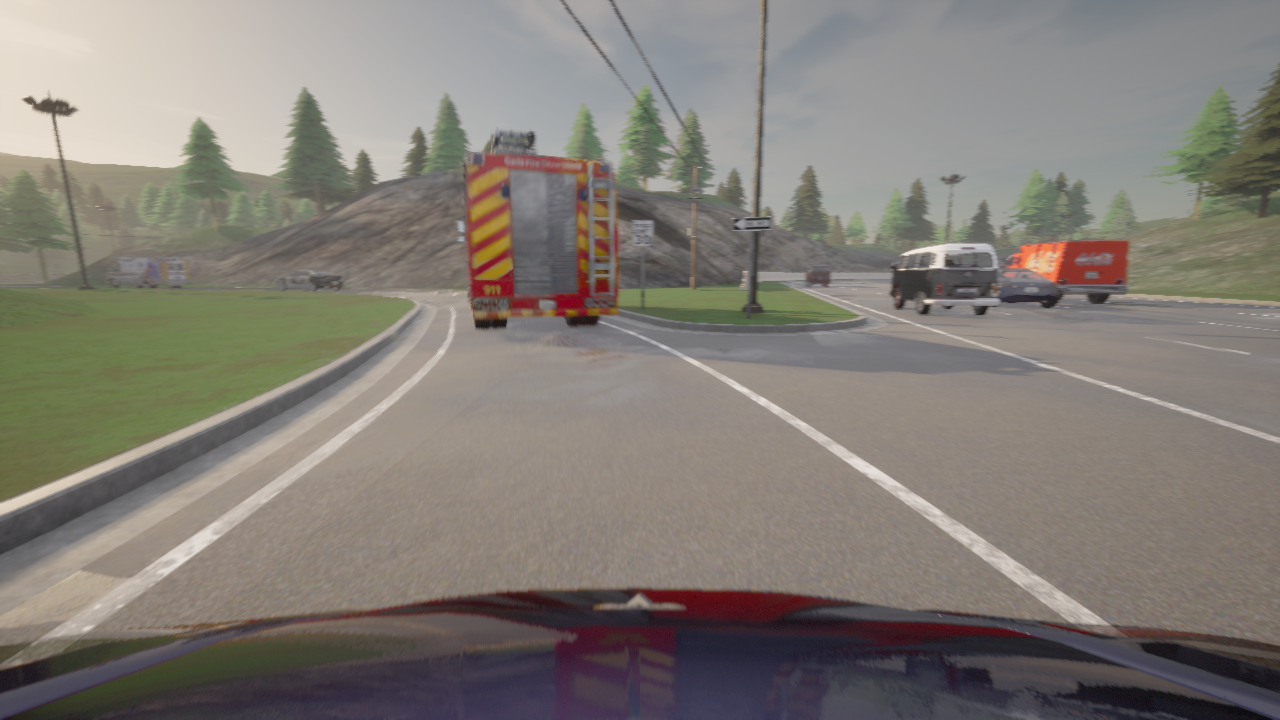cyclist: (0, 588, 1279, 719), (456, 128, 618, 329), (998, 240, 1129, 302), (891, 243, 999, 315), (106, 256, 196, 288), (990, 269, 1059, 307), (276, 267, 344, 290), (806, 265, 830, 286)
